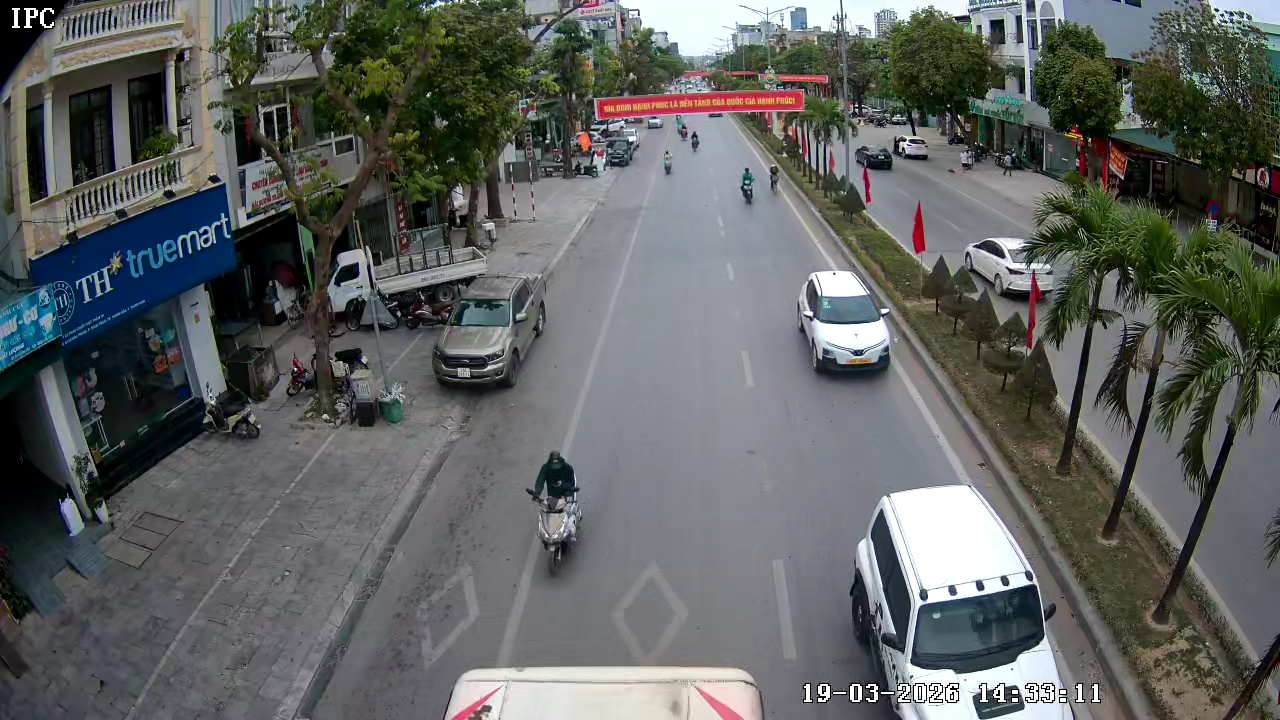car: (846, 480, 1107, 719), (430, 273, 546, 388), (795, 268, 893, 374), (960, 234, 1036, 297), (855, 142, 895, 170), (896, 136, 930, 161)
motorbike: (525, 448, 585, 577), (738, 165, 756, 206), (767, 161, 781, 193), (686, 126, 701, 151), (662, 146, 674, 176)
truck: (606, 135, 642, 167)
